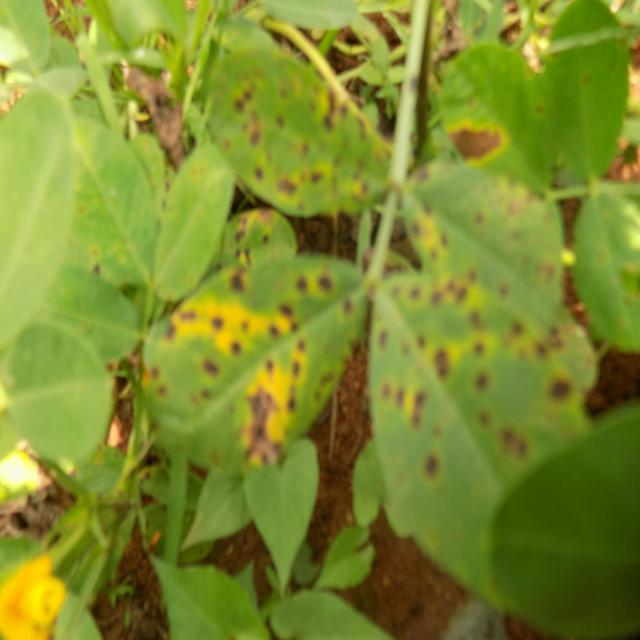Ground nut_healthy: (0, 92, 78, 374)
Ground nut_tikka leaf spot: (372, 277, 600, 605), (137, 260, 365, 476), (202, 40, 388, 210), (399, 154, 566, 342), (438, 38, 552, 209), (66, 108, 165, 291), (159, 140, 230, 304)
